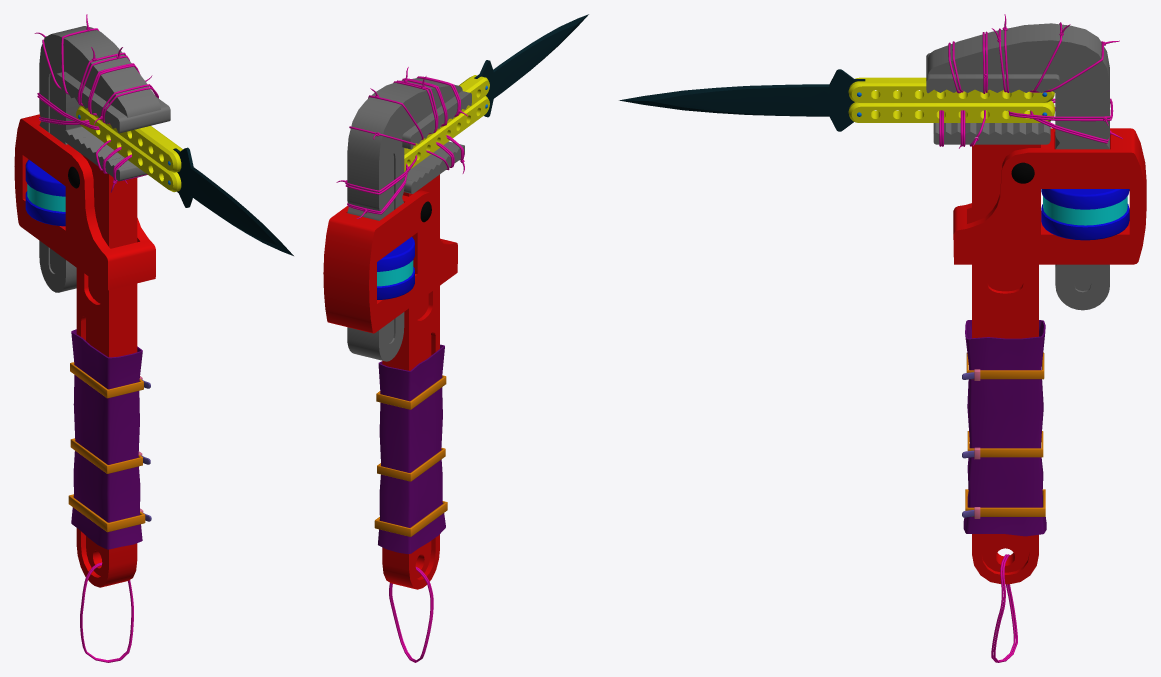
File: wrench_low.fbx
3 views of the same model, side by side, from view 1: azimuth 30°, elevation 25°; view 2: azimuth 150°, elevation 25°; view 3: azimuth 270°, elevation 25° (orthographic). The views are drawn at different scales.
Visible parts, largest first — view 1: wrench_low; view 2: wrench_low; view 3: wrench_low.
Boxes of the visible parts, <box> form: wrench_low: <box>14,14,293,662</box>; wrench_low: <box>323,14,588,662</box>; wrench_low: <box>619,14,1146,662</box>.
Size of the model in its own units: 3.31 by 26.59 by 19.83.
